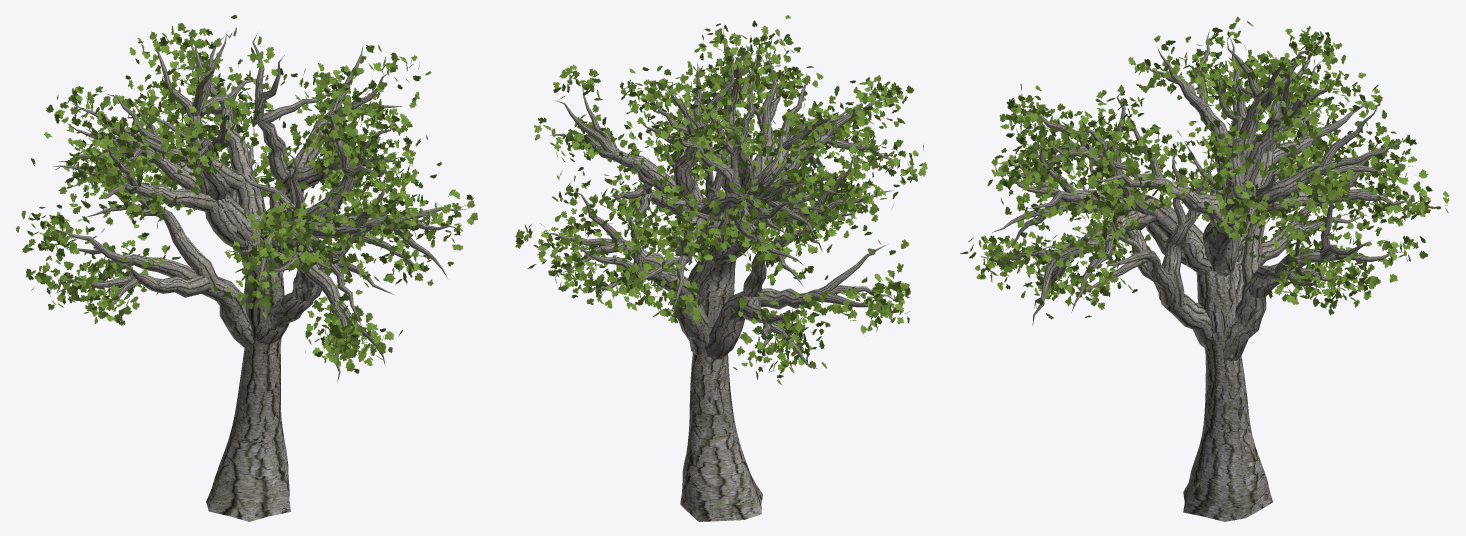
The picture shows the model from 3 angles, left to right: view 1: azimuth 30°, elevation 25°; view 2: azimuth 150°, elevation 25°; view 3: azimuth 270°, elevation 25°; orthographic projection. The views are drawn at different scales.
Parts seen in each view (by area): view 1: Oak foliage cards, Oak_EasyTree_V017_Proof; view 2: Oak foliage cards, Oak_EasyTree_V017_Proof; view 3: Oak foliage cards, Oak_EasyTree_V017_Proof.
Part boxes in pixels (x1,y1,x2,y2): Oak foliage cards: (16, 15, 477, 373); Oak_EasyTree_V017_Proof: (53, 32, 466, 521); Oak foliage cards: (515, 15, 927, 384); Oak_EasyTree_V017_Proof: (541, 28, 895, 521); Oak foliage cards: (960, 16, 1449, 319); Oak_EasyTree_V017_Proof: (992, 29, 1416, 521).
Size of the model in its own units: 6.92 by 7.76 by 7.61.
2 materials, 2 textured.
